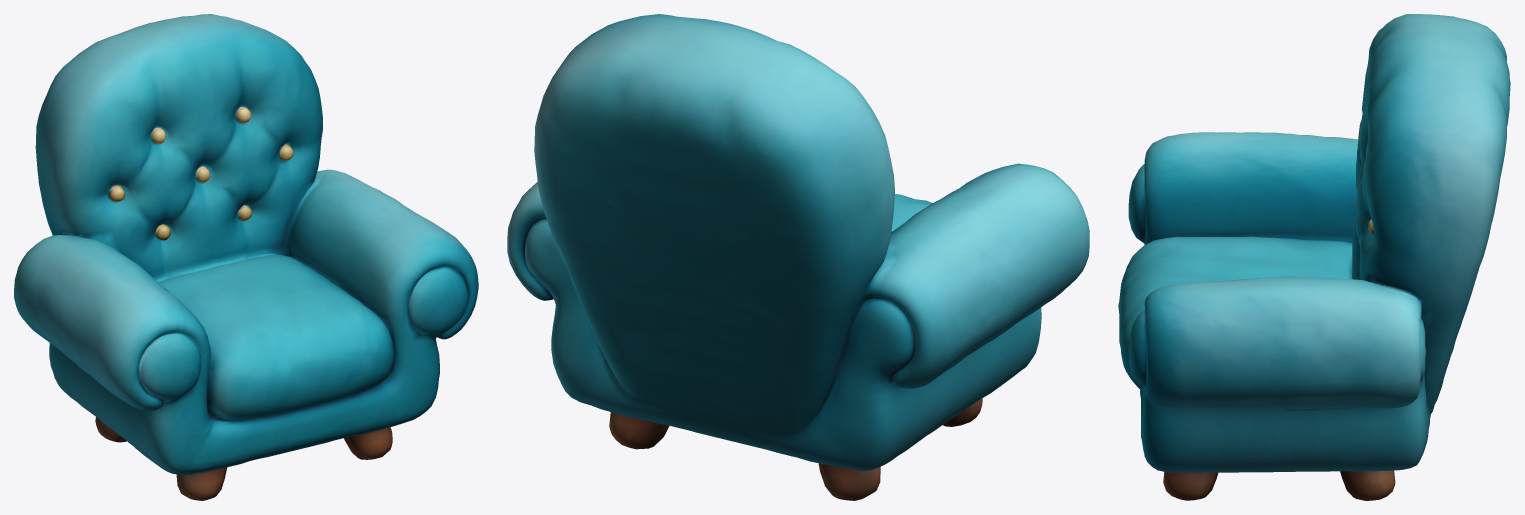
The model's file is koltuk.glb.
3 renders of one model, left to right at view 1: azimuth 30°, elevation 25°; view 2: azimuth 150°, elevation 25°; view 3: azimuth 270°, elevation 25°, orthographic. The views are drawn at different scales.
Visible parts, largest first — view 1: tripo_node_49e495b3-f914-4d3f-a55a-65750915ff1a; view 2: tripo_node_49e495b3-f914-4d3f-a55a-65750915ff1a; view 3: tripo_node_49e495b3-f914-4d3f-a55a-65750915ff1a.
Boxes of the visible parts, x1=… form: tripo_node_49e495b3-f914-4d3f-a55a-65750915ff1a: x1=14, y1=14, x2=478, y2=500; tripo_node_49e495b3-f914-4d3f-a55a-65750915ff1a: x1=507, y1=14, x2=1089, y2=500; tripo_node_49e495b3-f914-4d3f-a55a-65750915ff1a: x1=1118, y1=14, x2=1510, y2=500.
Bounding box in the file's own units: 0.9781 × 0.936 × 0.802.
Materials: 1 (1 with a texture image).
